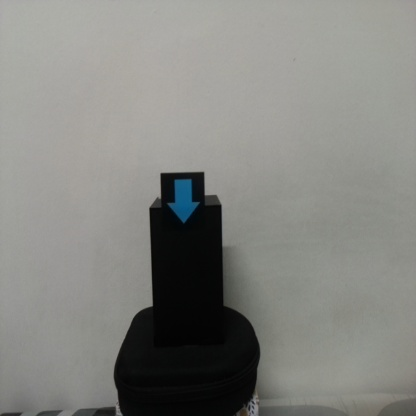id_2: (161, 174, 205, 231)
